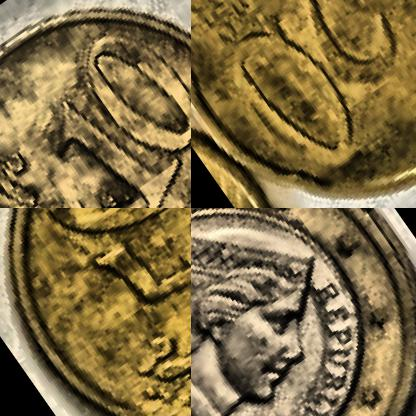coin: (191, 0, 415, 207), (191, 208, 415, 415), (0, 0, 190, 207), (0, 208, 190, 415)
